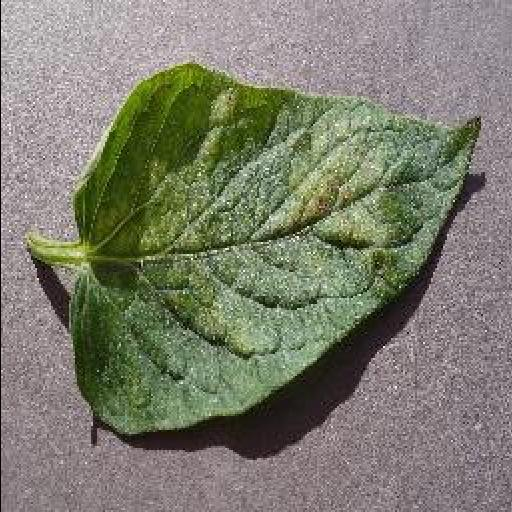disease_tomato: (65, 66, 487, 436)
